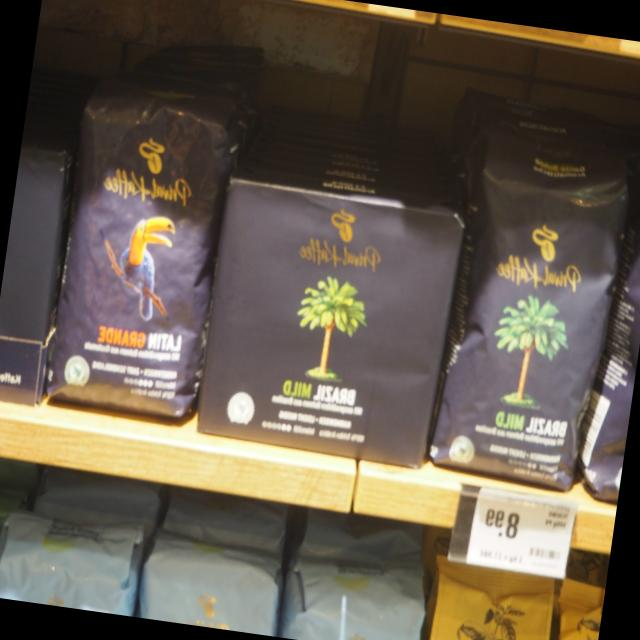BM Bohne: (422, 121, 640, 498)
BM Gemahlen: (187, 168, 472, 476)
LG Bohne: (40, 81, 250, 430)
